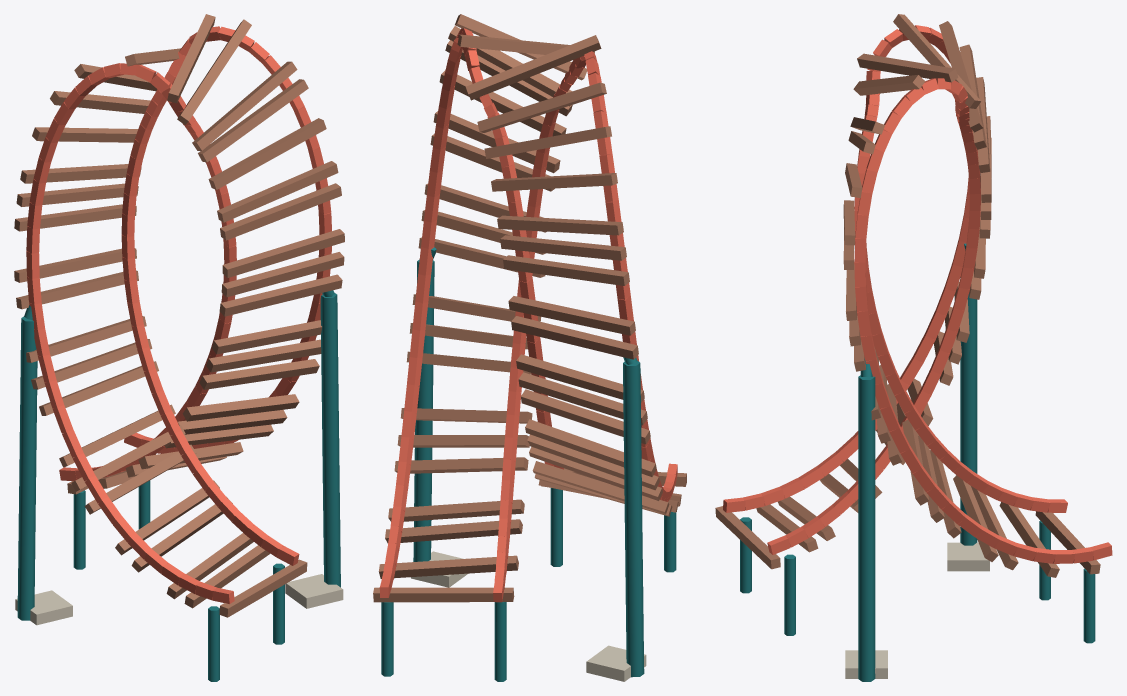
Rendered from track_loop.glb.
The picture shows the model from 3 angles, left to right: view 1: azimuth 30°, elevation 25°; view 2: azimuth 150°, elevation 25°; view 3: azimuth 270°, elevation 25°; orthographic projection. The views are drawn at different scales.
Parts seen in each view (by area): view 1: track_loop; view 2: track_loop; view 3: track_loop.
Boxes of the visible parts, x1,y1,x2,y2 form: track_loop: (14,14,344,681); track_loop: (373,14,686,681); track_loop: (715,14,1112,681).
Bounding box in the file's own units: 3.67 × 7.47 × 4.67.
